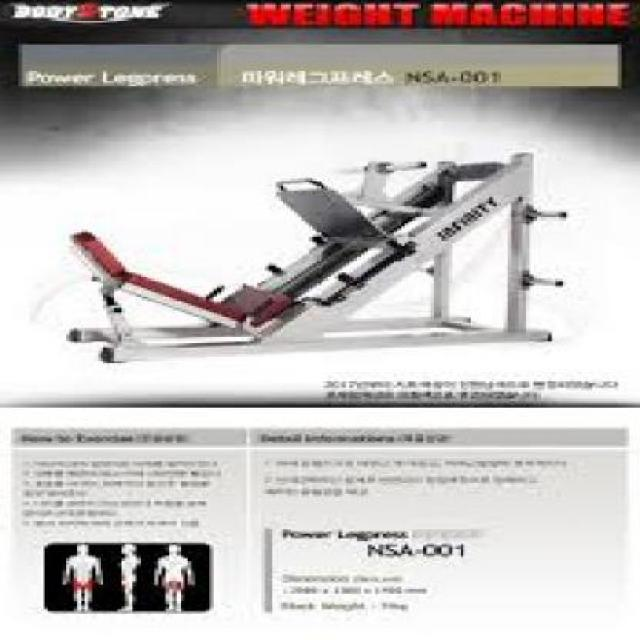leg press: (38, 117, 610, 366)
